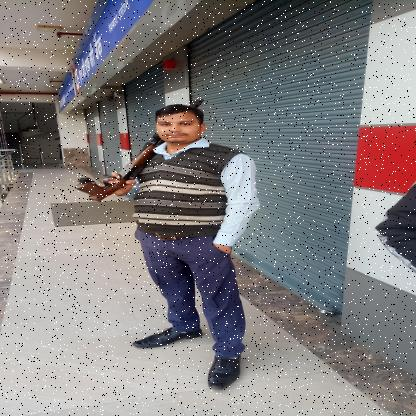rifle: (72, 96, 208, 204)
